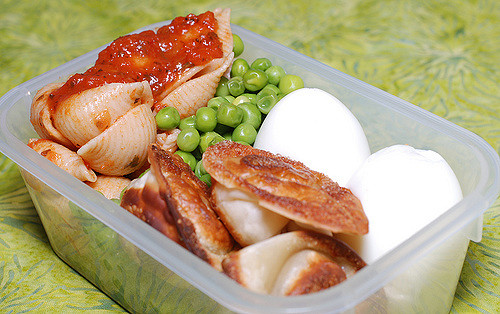boiled peas: (184, 98, 254, 144)
plain spaghetti: (24, 69, 150, 182)
